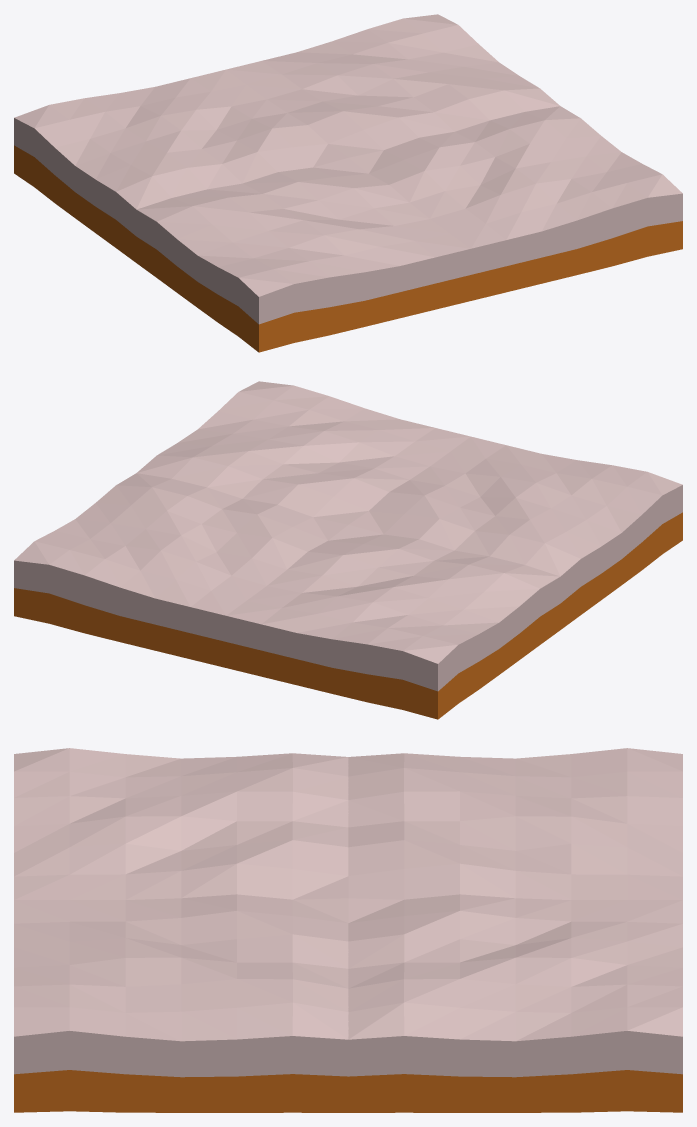
The model's file is TILE_neutre1D.fbx.
3 views of the same model, one above another, from view 1: azimuth 30°, elevation 25°; view 2: azimuth 150°, elevation 25°; view 3: azimuth 270°, elevation 25° (orthographic). The views are drawn at different scales.
Visible parts, largest first — view 1: tile_base.002; view 2: tile_base.002; view 3: tile_base.002.
Boxes of the visible parts, x1,y1,x2,y2 form: tile_base.002: (14,14,682,352); tile_base.002: (14,381,682,719); tile_base.002: (14,748,682,1112).
Size of the model in its own units: 5 by 0.7116 by 5.
